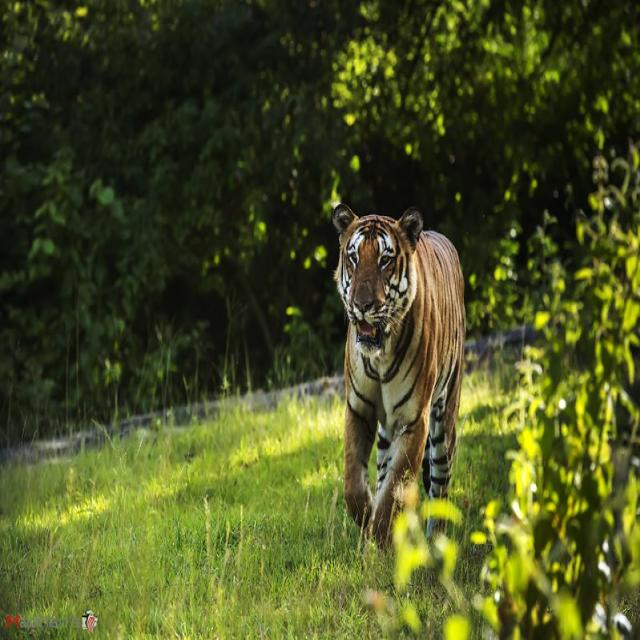Tiger: (330, 201, 464, 551)
